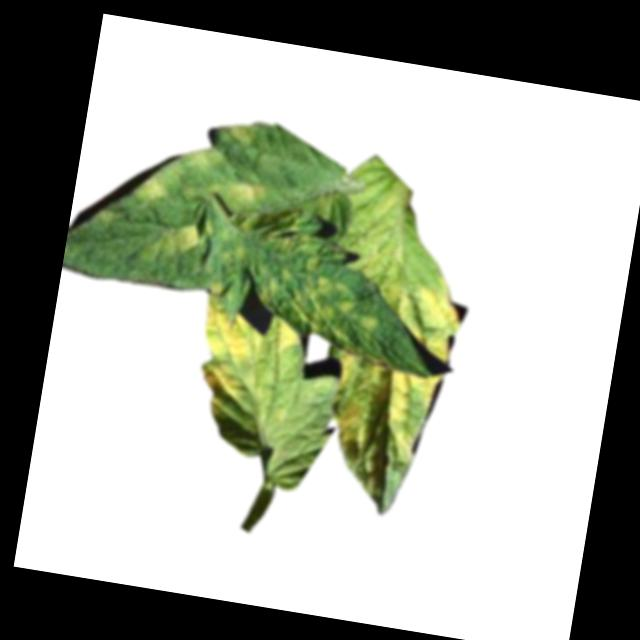Leaf_Mold: (244, 232, 392, 366), (183, 293, 304, 428), (320, 356, 441, 475), (384, 270, 467, 371), (152, 215, 202, 263), (212, 173, 266, 211), (127, 168, 171, 207), (215, 119, 257, 154)
